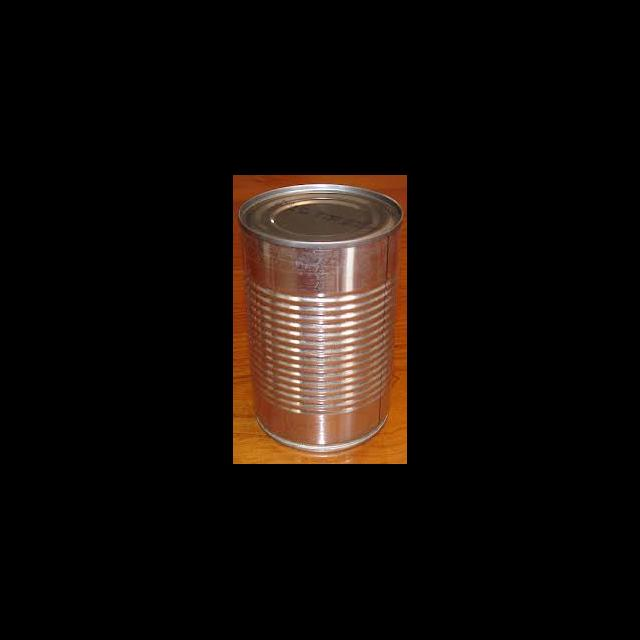metal: (236, 182, 403, 450)
